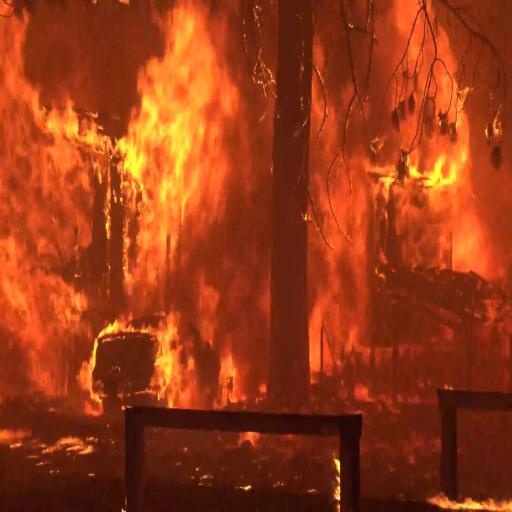fire: (134, 16, 228, 245), (0, 114, 83, 371), (71, 314, 195, 400), (398, 106, 477, 237)
